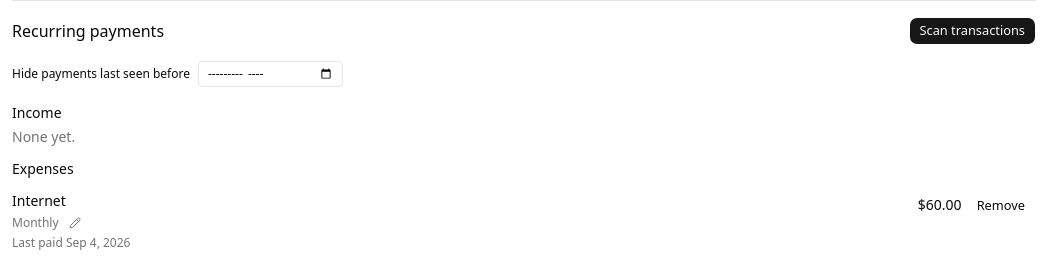
Test: allows correcting and confirming the frequency inline
Expected: the text "Internet" is shown, [12,191,66,210]
Click the button named "Change frequency for Internet" at (74,223), box [62,211,86,235]
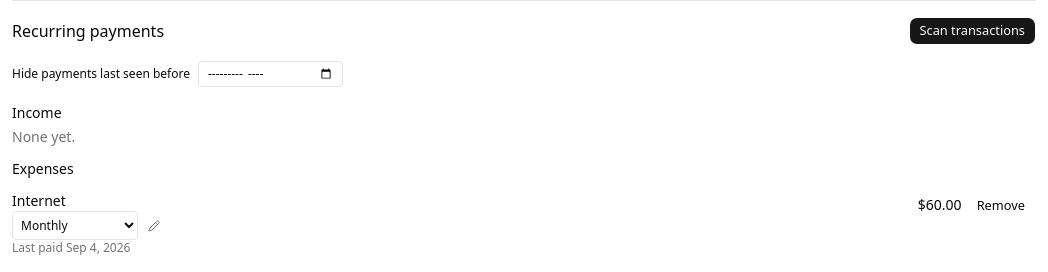
Select "Bi-weekly" in the dropdown named "Frequency for Internet" at (75,226), box [12,211,138,240]
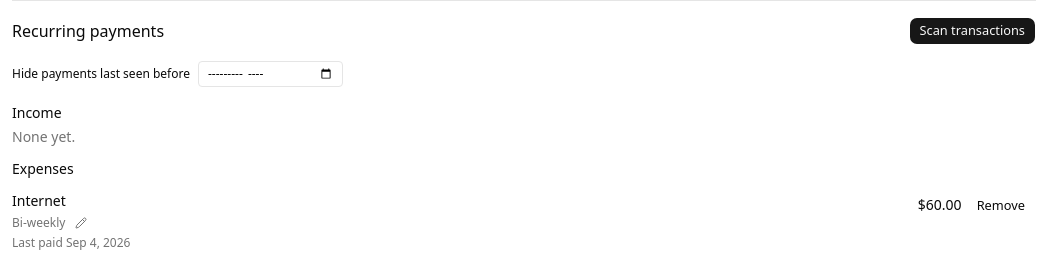
Expected: the text "Bi-weekly" is shown, [12,215,65,231]
